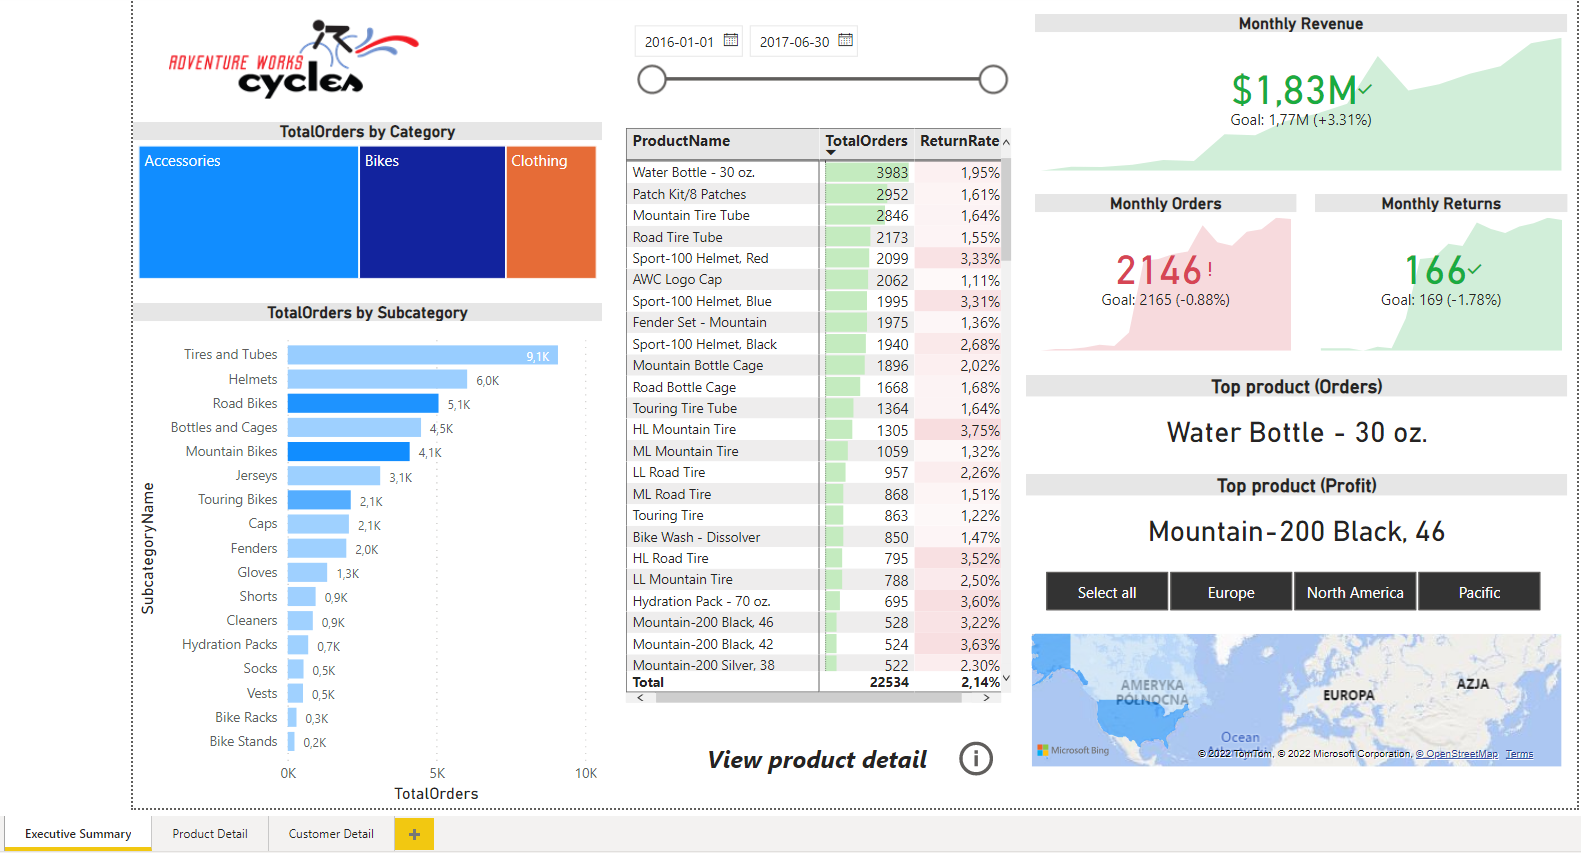

This screenshot's page, from the dashboard's own definition file:
{"tool":"powerbi","page":{"name":"Executive Summary","canvas":[1280,720],"ordinal":0},"visuals":[{"type":"barChart","title":"TotalOrders by Subcategory","fields":{"Y":["AW_Sales.TotalOrders"],"Category":["AW_Product_Subcategory_Lookup.SubcategoryName"]},"box":[0,272,416,448],"z":0},{"type":"treemap","title":"TotalOrders by Category","fields":{"Group":["AW_Product_Category_Lookup.CategoryName","AW_Product_Subcategory_Lookup.SubcategoryName"],"Values":["AW_Sales.TotalOrders"]},"box":[0,112,416,144],"z":1000},{"type":"pivotTable","fields":{"Values":["AW_Sales.TotalOrders","AW_Returns.ReturnRate"],"Rows":["AW_Product_Category_Lookup.CategoryName","AW_Product_Subcategory_Lookup.SubcategoryName","AW_Product_Lookup.ProductName"]},"box":[432,112,352,520],"z":2000},{"type":"slicer","fields":{"Values":["AW_Calendar_Lookup.Date"]},"box":[432,16,352,80],"z":3000},{"type":"kpi","title":"Monthly Revenue","fields":{"Indicator":["AW_Sales.TotalRevenue"],"TrendLine":["AW_Calendar_Lookup.Start of Month"],"Goal":["AW_Sales.PrevMonthRevenue"]},"box":[800,16,472,144],"z":4000},{"type":"kpi","title":"Monthly Orders","fields":{"TrendLine":["AW_Calendar_Lookup.Start of Month"],"Goal":["AW_Sales.PrevMonthOrders"],"Indicator":["AW_Sales.TotalOrders"]},"box":[800,176,232,144],"z":5000},{"type":"kpi","title":"Monthly Returns","fields":{"TrendLine":["AW_Calendar_Lookup.Start of Month"],"Goal":["AW_Returns.PrevMonthReturns"],"Indicator":["AW_Returns.TotalReturns"]},"box":[1048,176,224,144],"z":6000},{"type":"card","title":"Top product (Orders)","fields":{"Values":["Min(AW_Product_Lookup.ProductName)"]},"box":[792,336,480,80],"z":7000},{"type":"card","title":"Top product (Profit)","fields":{"Values":["Min(AW_Product_Lookup.ProductName)"]},"box":[792,424,480,80],"z":8000},{"type":"filledMap","fields":{"Category":["AW_Territories_Lookup.Country"]},"box":[792,560,480,128],"z":9000},{"type":"slicer","fields":{"Values":["AW_Territories_Lookup.Continent"]},"box":[784,504,488,48],"z":10000},{"type":"textbox","box":[504,656,216,40],"z":11000},{"type":"actionButton","box":[504,656,264,40],"z":12000},{"type":"image","box":[0,16,288,80],"z":13000}]}

Visuals, with their boxes on the page's 1280x720 design canvas (x1, y1, x2, y2). These are canvas units, not pixel positions in the 1581x853 screenshot, which may show the page scaled, cropped or inside an application window:
"TotalOrders by Subcategory" barChart: (0,272,416,720)
"TotalOrders by Category" treemap: (0,112,416,256)
pivotTable - AW_Sales.TotalOrders x AW_Returns.ReturnRate: (432,112,784,632)
slicer - AW_Calendar_Lookup.Date: (432,16,784,96)
"Monthly Revenue" kpi: (800,16,1272,160)
"Monthly Orders" kpi: (800,176,1032,320)
"Monthly Returns" kpi: (1048,176,1272,320)
"Top product (Orders)" card: (792,336,1272,416)
"Top product (Profit)" card: (792,424,1272,504)
filledMap - AW_Territories_Lookup.Country: (792,560,1272,688)
slicer - AW_Territories_Lookup.Continent: (784,504,1272,552)
textbox: (504,656,720,696)
actionButton: (504,656,768,696)
image: (0,16,288,96)
